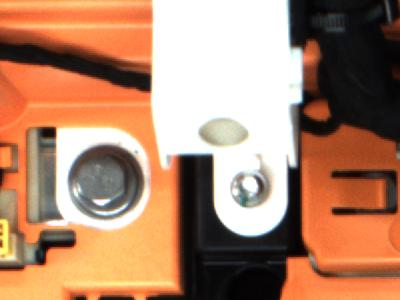nut_b: (62, 142, 148, 219)
